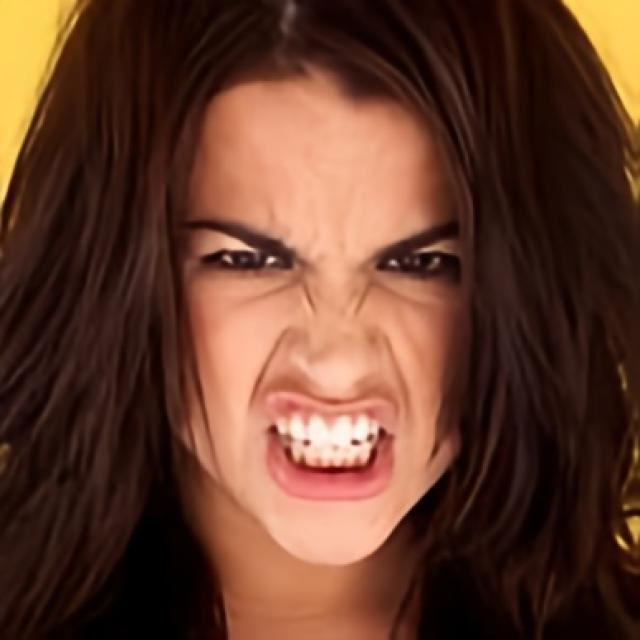anger: (180, 70, 477, 566)
